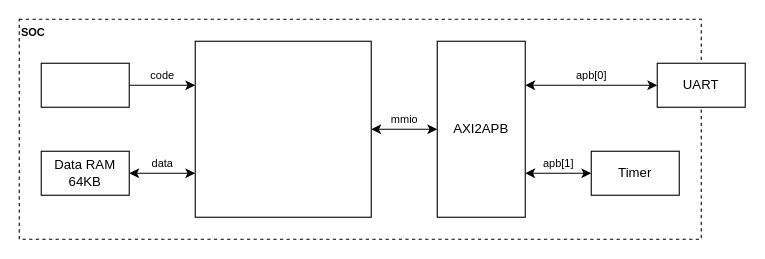
Image size: 765x259. Some labels were removed from this diagram. Each missing label, with the centre of its shape:
Code RAM 64KB: the point at 84,84
CPU Core: the point at 282,128
